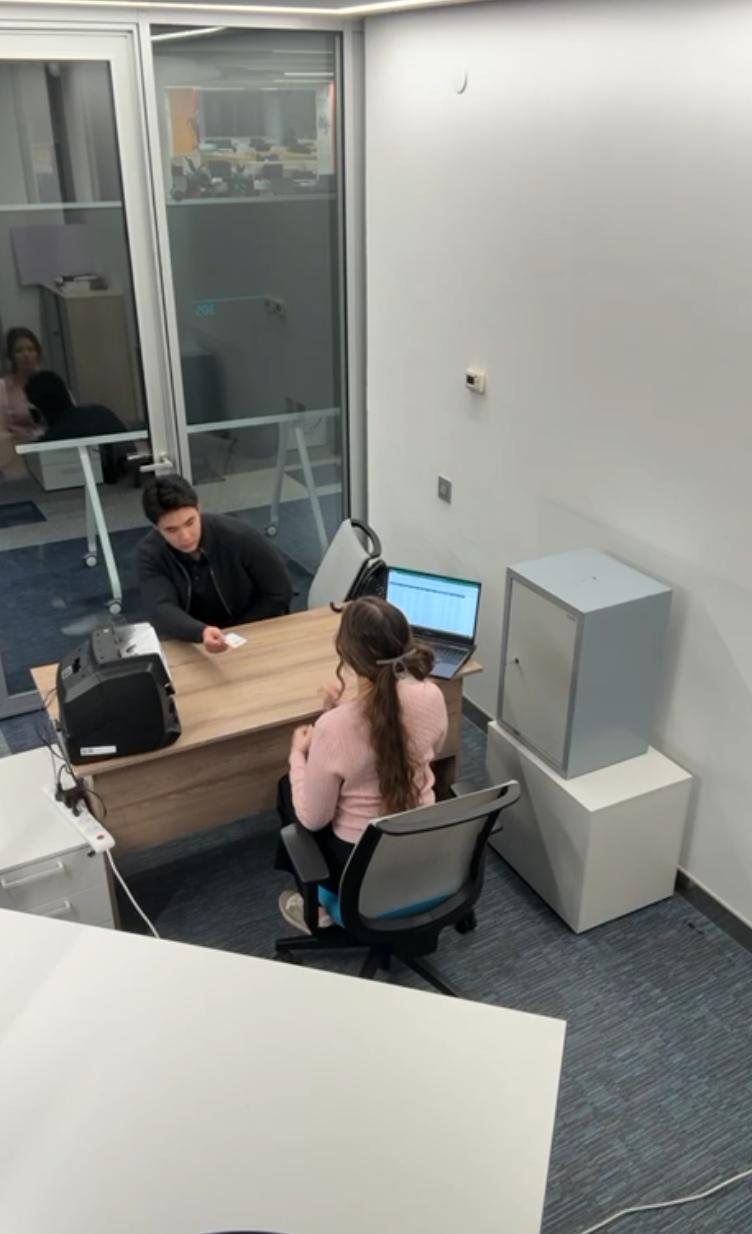counter: (54, 620, 185, 765)
document: (218, 631, 252, 651)
key_in: (507, 658, 530, 683)
screen_on: (385, 570, 479, 642)
